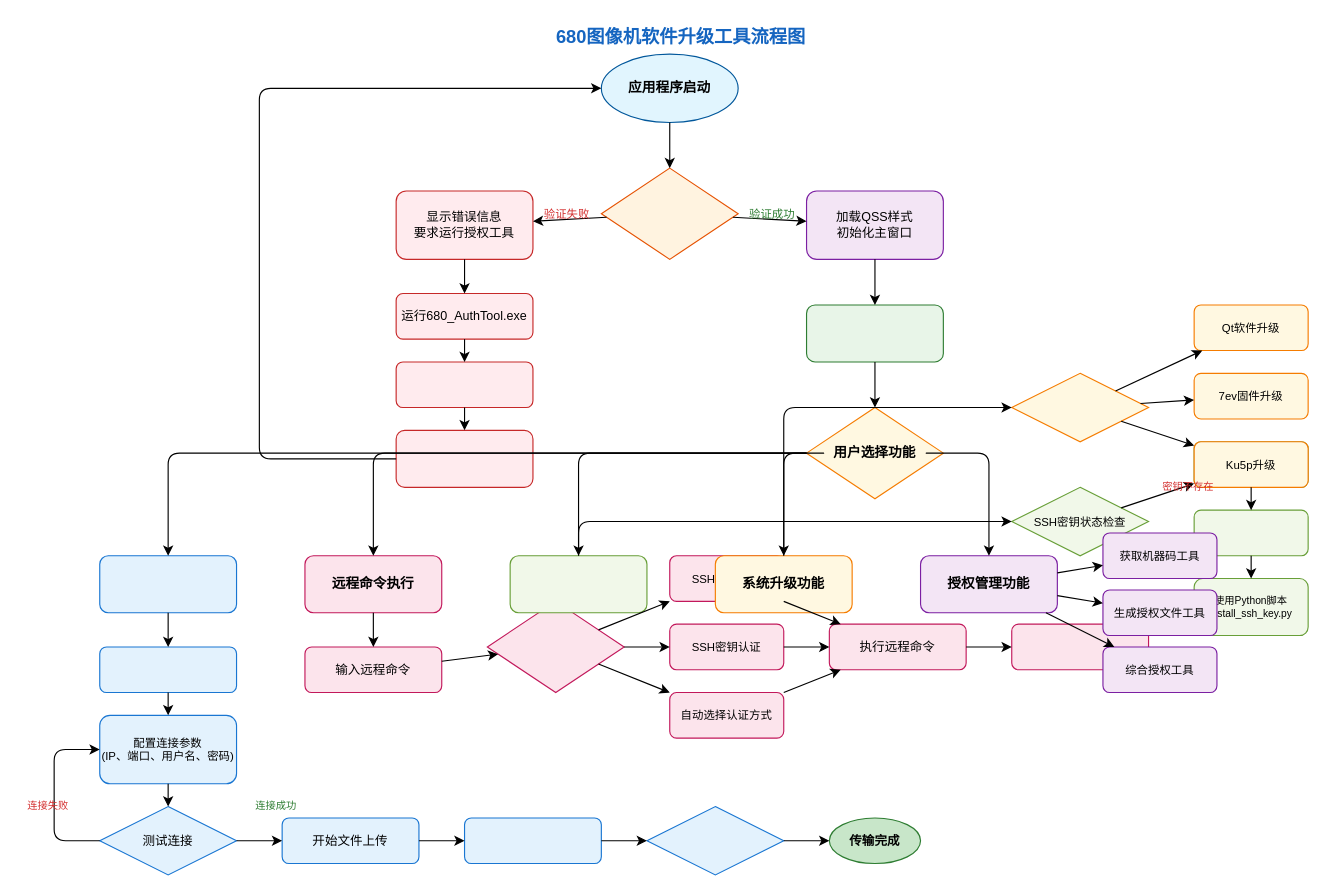
Some shapes in this 1328 by 895 pixel diagram are drawn without their labels. Each missing label, with the box of its shape:
SCP传输进度监控: (463, 817, 601, 864)
SSH密钥管理: (509, 555, 647, 613)
主界面显示: (805, 304, 943, 362)
公钥部署到服务器: (1193, 509, 1308, 556)
实时显示命令输出: (1011, 623, 1149, 670)
文件MD5校验: (646, 805, 784, 875)
文件传输功能: (99, 555, 237, 613)
机器授权验证: (600, 167, 738, 259)
生成授权文件 machine_auth.key: (395, 429, 533, 487)
生成机器码: (395, 361, 533, 408)
系统升级选择: (1011, 372, 1149, 442)
认证方式选择: (486, 600, 624, 693)
选择本地文件: (99, 646, 237, 693)
